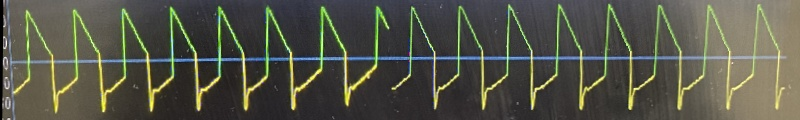peepi: (10, 1, 800, 116)
